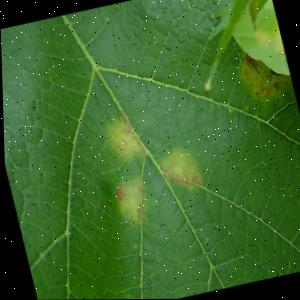Folha: (0, 0, 300, 300)
Fungo: (99, 109, 144, 167), (154, 142, 203, 195), (109, 173, 149, 226), (110, 182, 126, 203), (191, 173, 202, 187), (260, 86, 269, 96)
